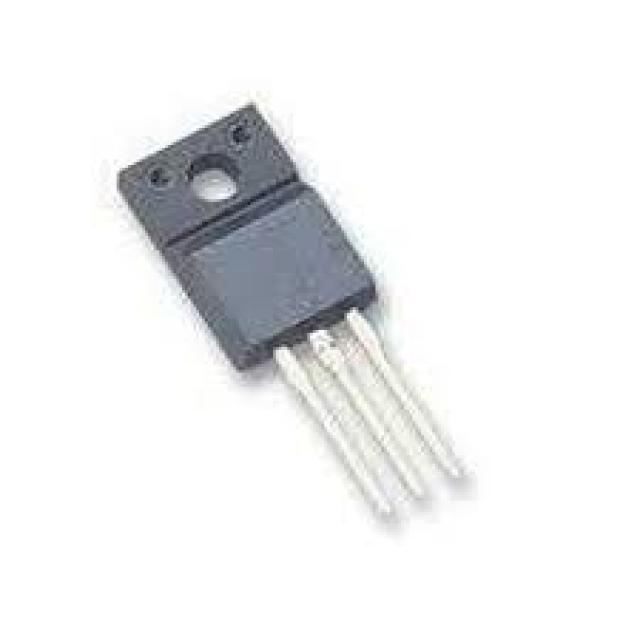Transistor: (107, 105, 476, 526)
